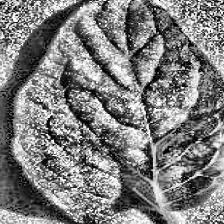spider mites: (13, 0, 224, 223)
